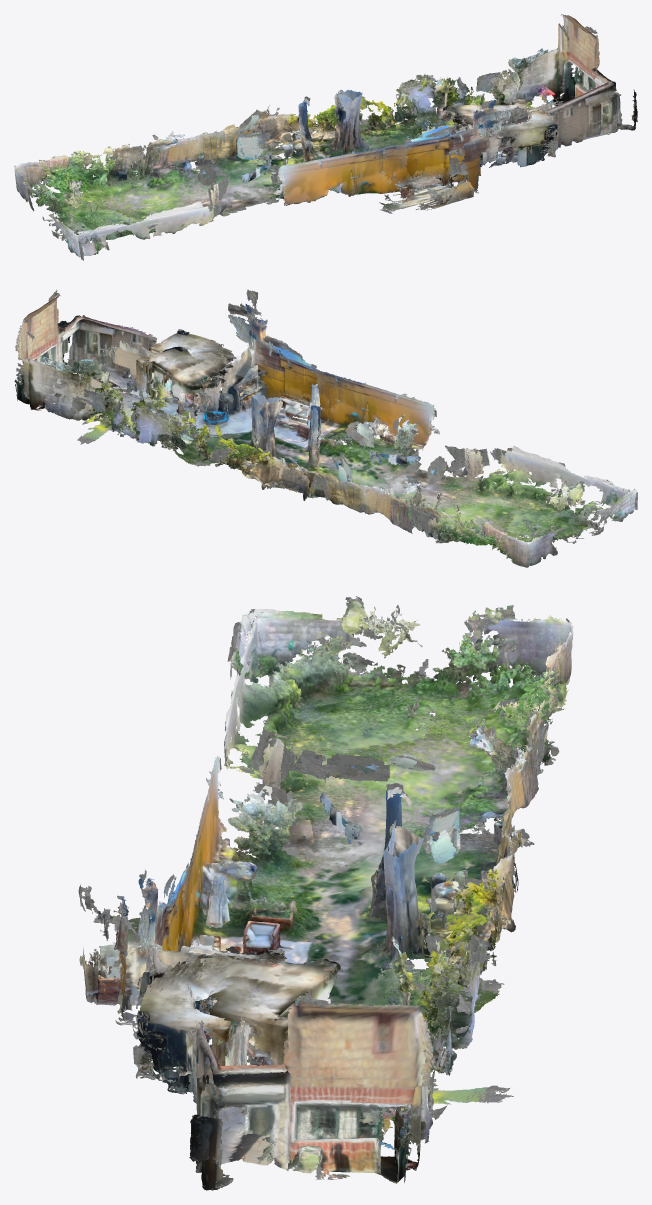
The model's file is photo.glb.
3 renders of one model, top to bottom at view 1: azimuth 30°, elevation 25°; view 2: azimuth 150°, elevation 25°; view 3: azimuth 270°, elevation 25°, orthographic. The views are drawn at different scales.
Bounding box in the file's own units: 33.65 × 5.46 × 13.02.
1 material, 1 textured.
